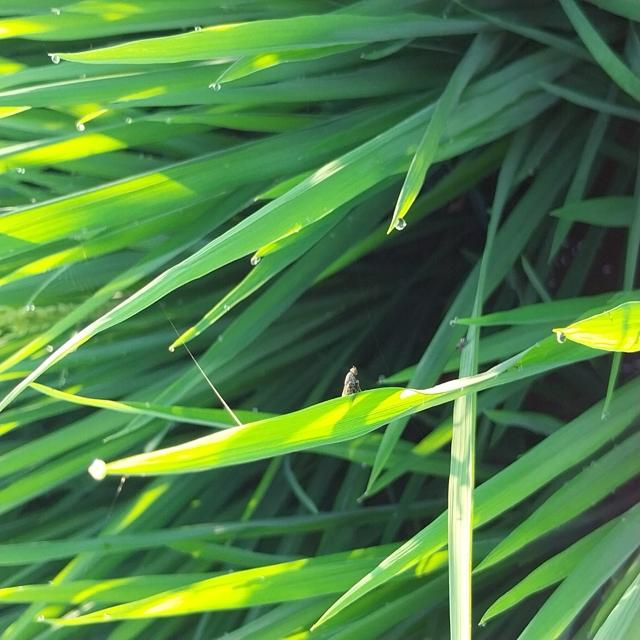healthy: (336, 353, 366, 428)
